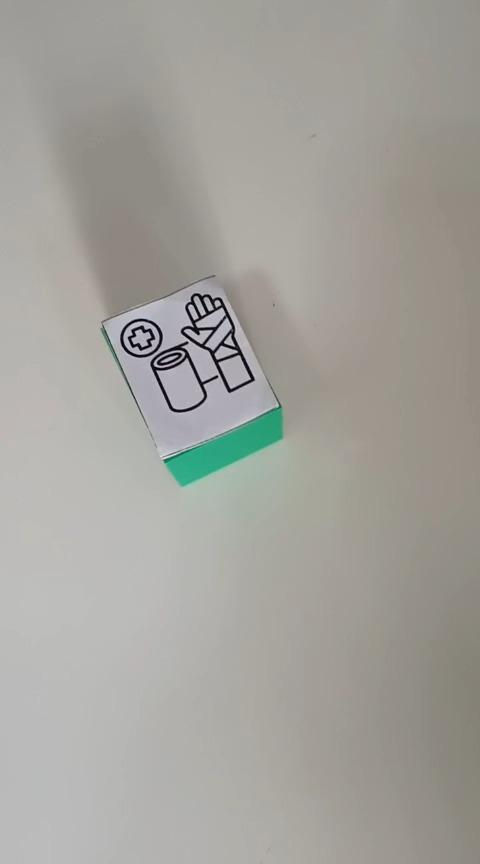Bandages: (99, 273, 283, 487)
